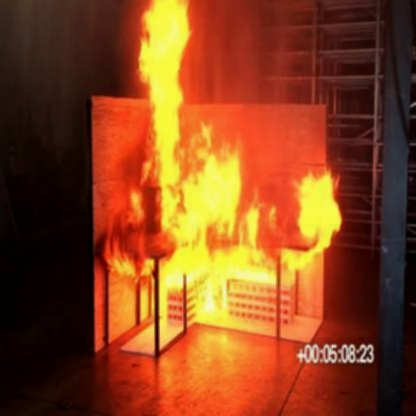fire: (102, 0, 340, 287)
